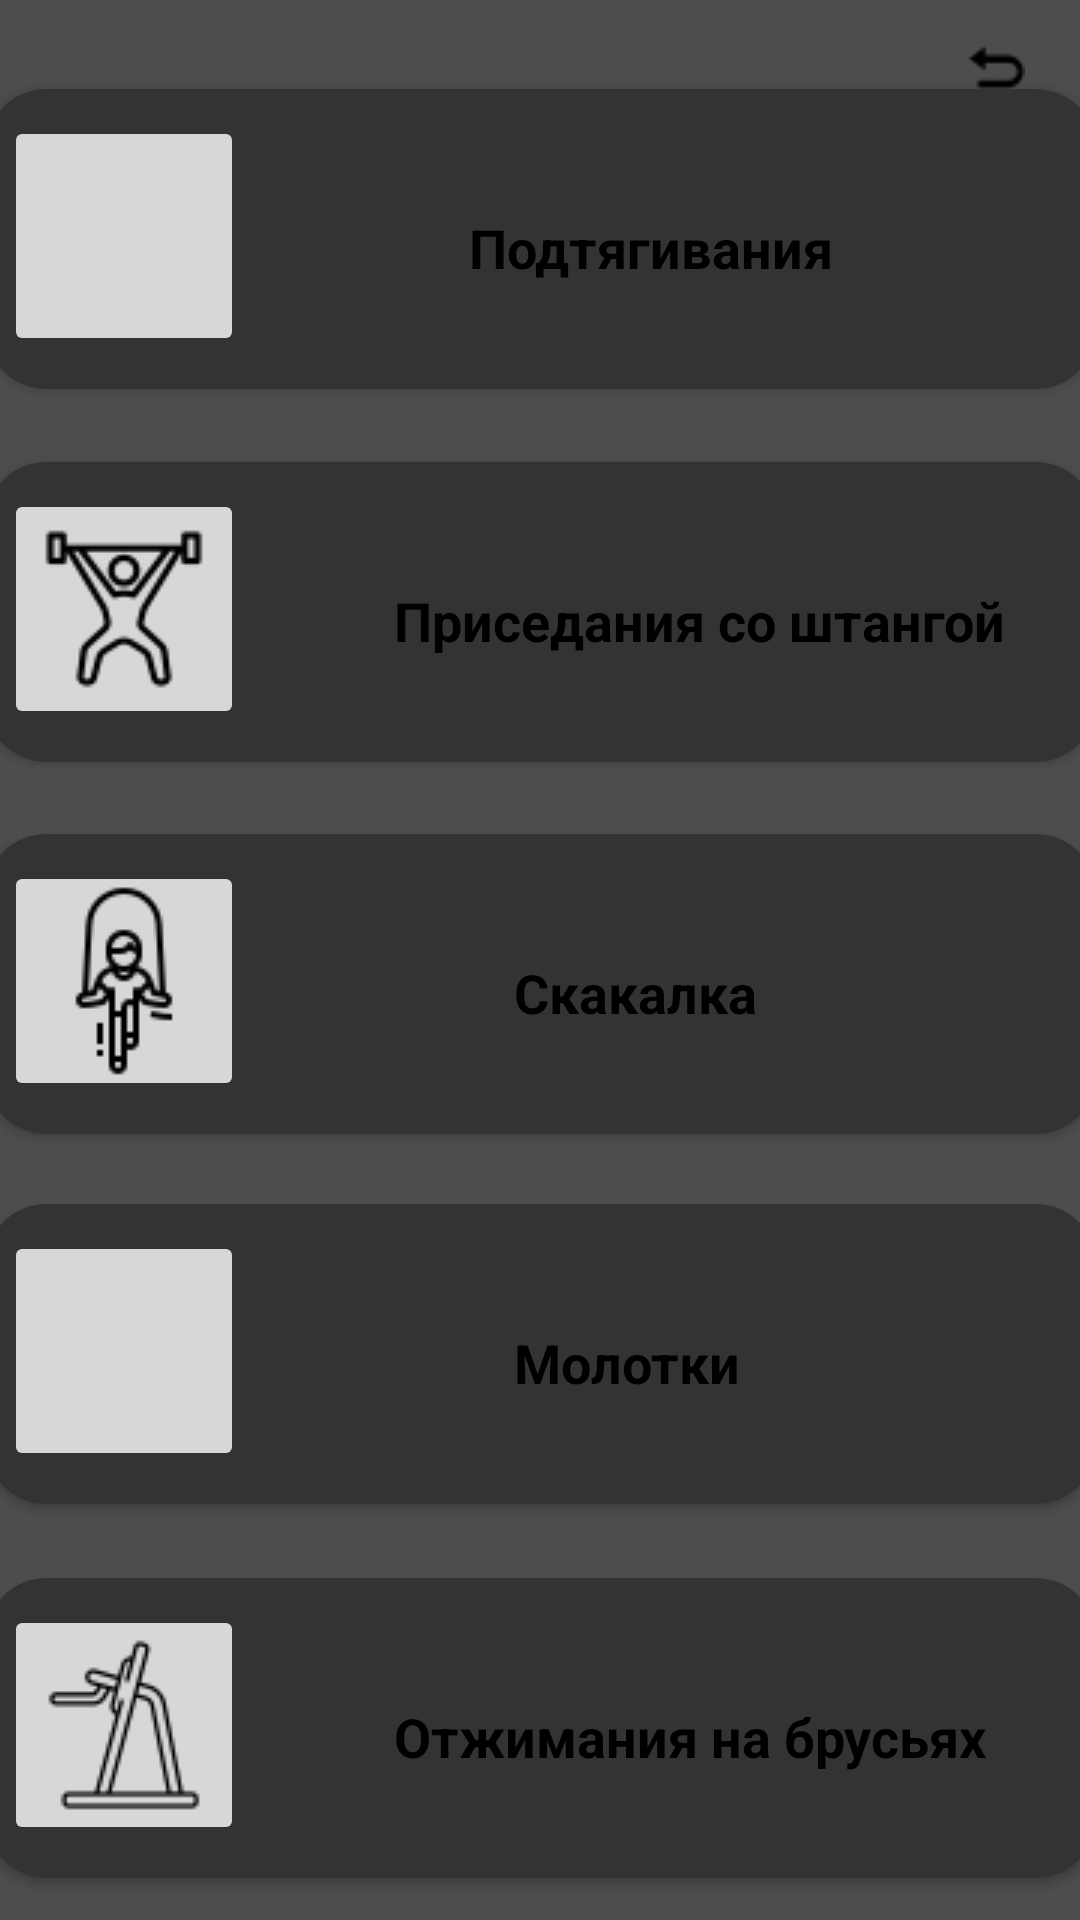

Icons on this 1080 x 1920 Android screen, each with its box as rect(x1, y1, x2, y2):
jump rope: rect(16, 879, 232, 1083)
prisedaniya so shtangoi: rect(16, 507, 232, 711)
